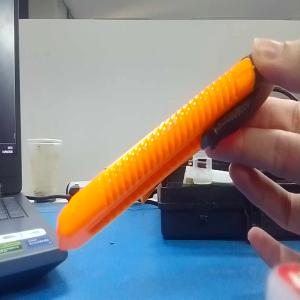estilete: (56, 55, 272, 252)
